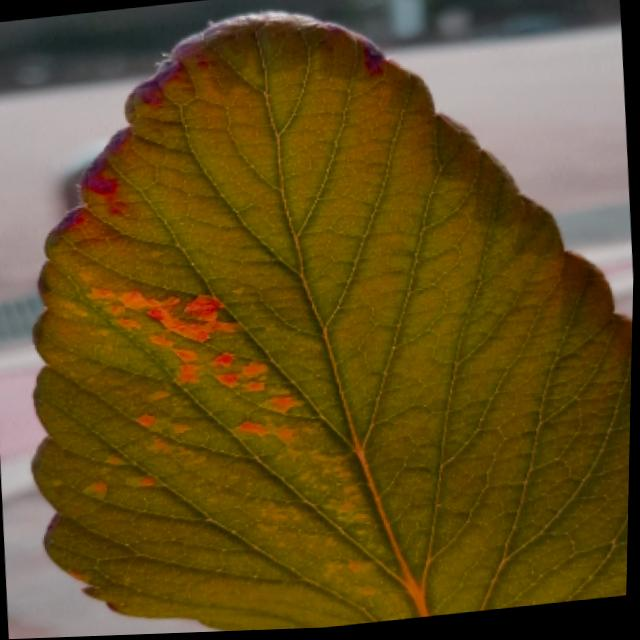Angular Leafspot: (48, 241, 407, 623)
